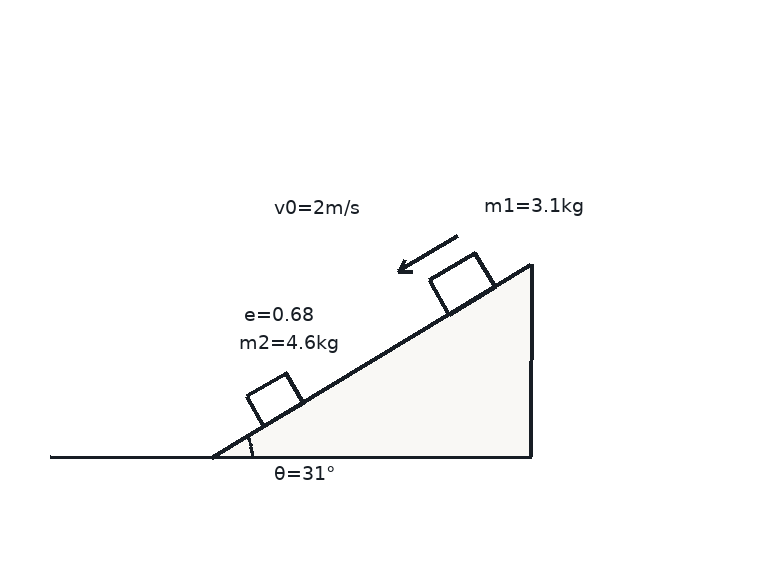block: (427, 251, 497, 316), (243, 370, 305, 428)
ramp: (210, 262, 533, 458)
